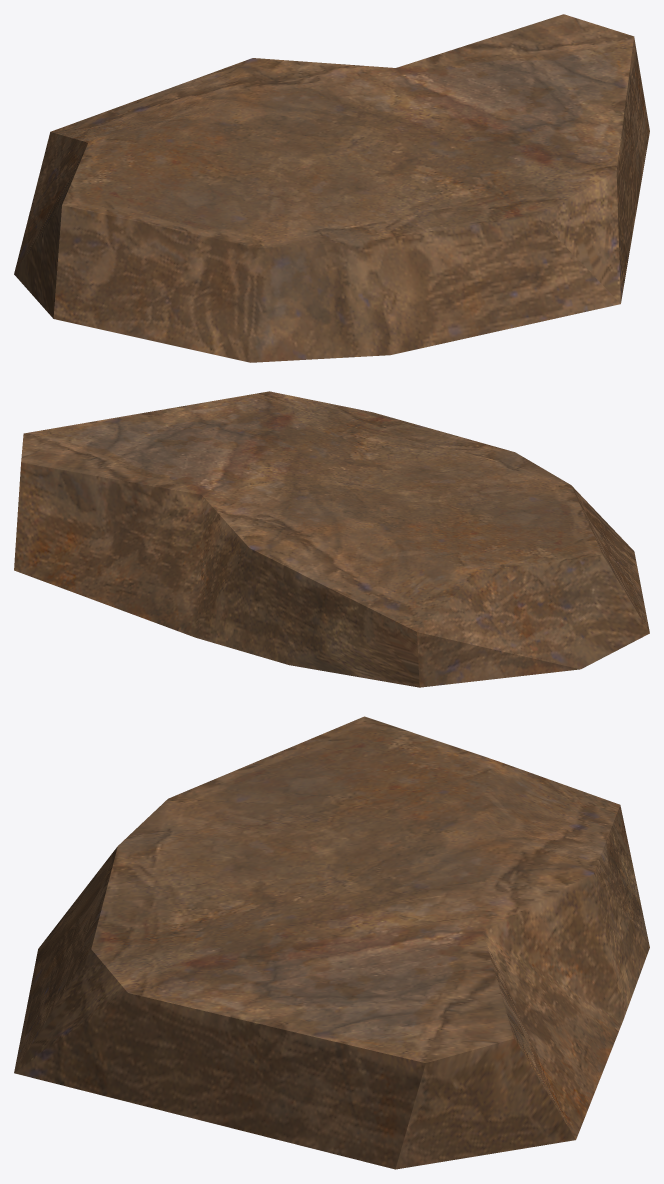
The model's file is Rock_Shales_04_L2.fbx.
3 renders of one model, top to bottom at view 1: azimuth 30°, elevation 25°; view 2: azimuth 150°, elevation 25°; view 3: azimuth 270°, elevation 25°, orthographic. The views are drawn at different scales.
Visible parts, largest first — view 1: polySurface250; view 2: polySurface250; view 3: polySurface250.
Part boxes in pixels (box(x1,y1,x2,y2)): polySurface250: box(14, 14, 649, 362); polySurface250: box(14, 391, 649, 687); polySurface250: box(14, 716, 649, 1169).
Size of the model in its own units: 121 by 19.64 by 87.28.
